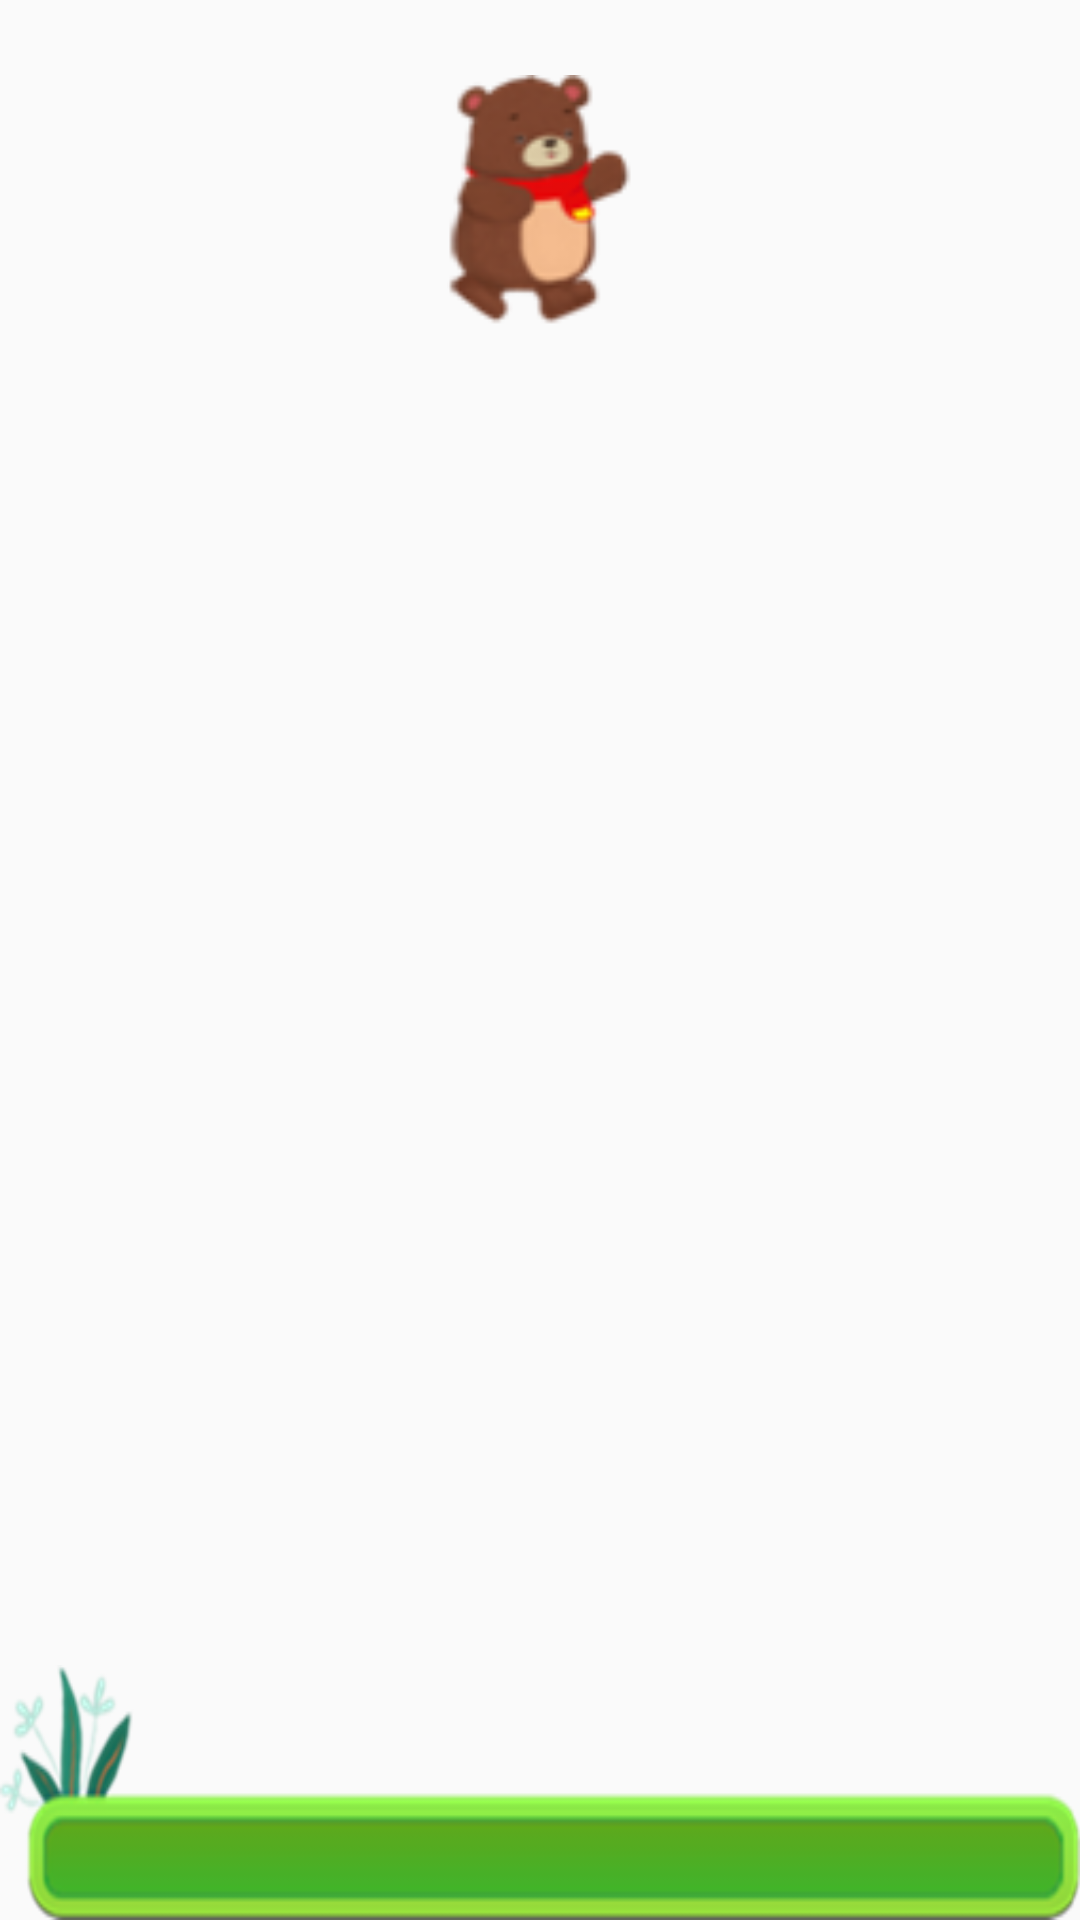

Screen size 1080px×1920px. Icon name, then its center in pixels as point (x, y):
progress bar bear: point (539, 199)
